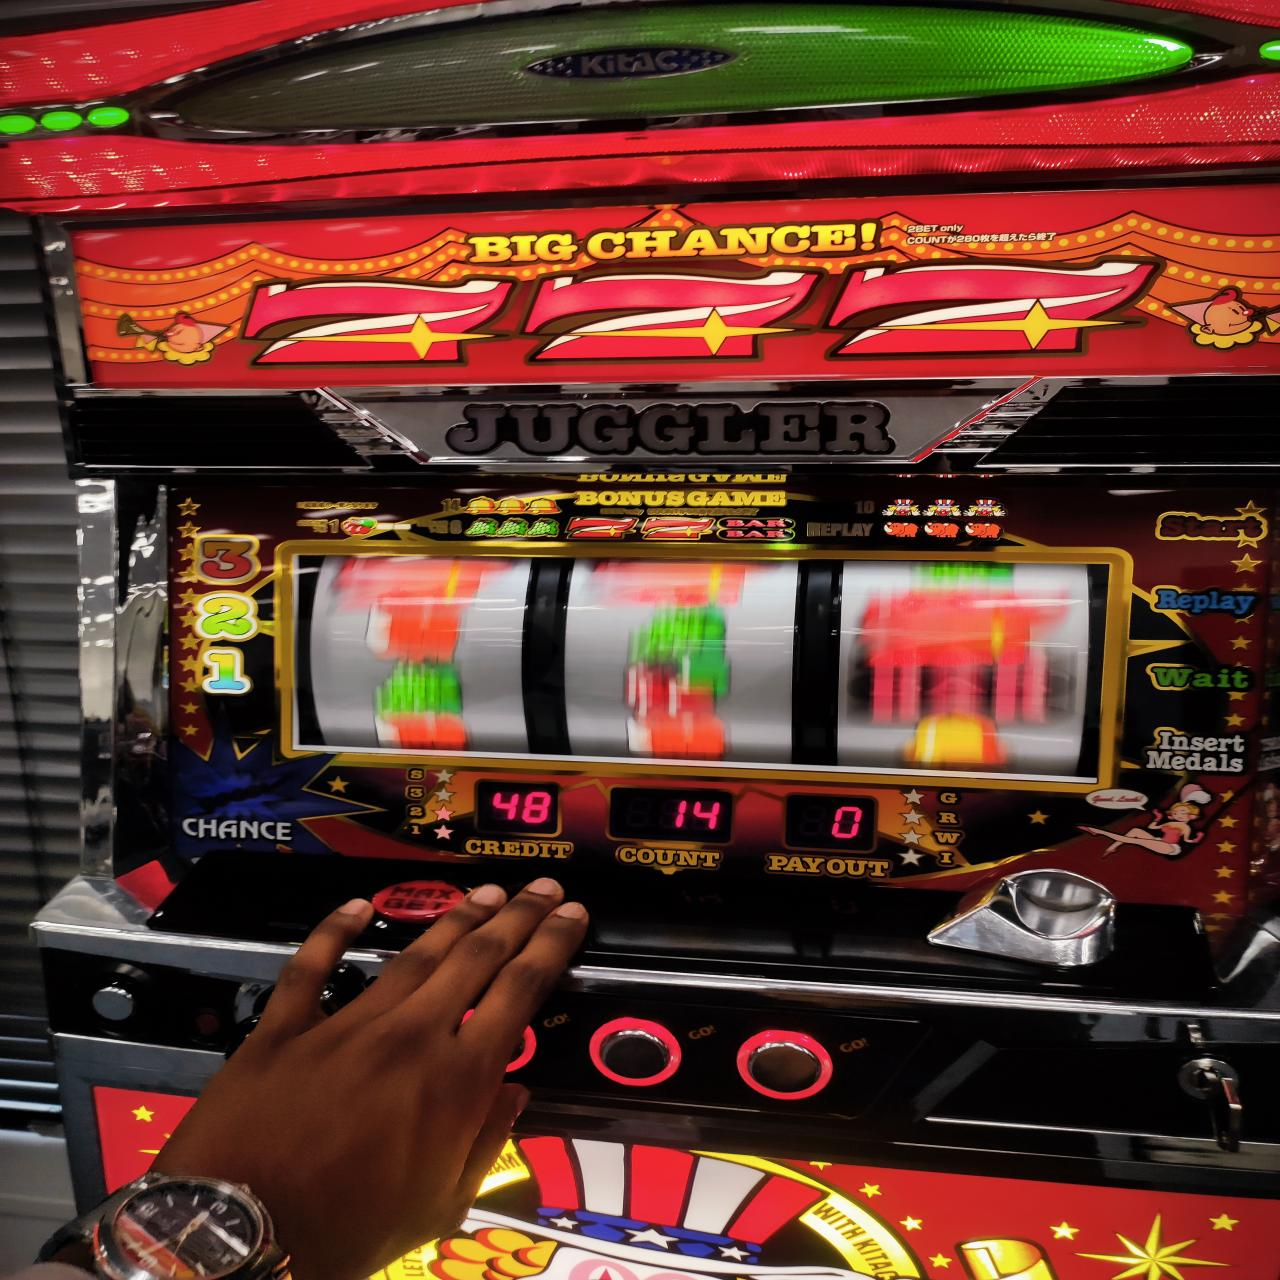rhino: (291, 549, 1107, 782)
